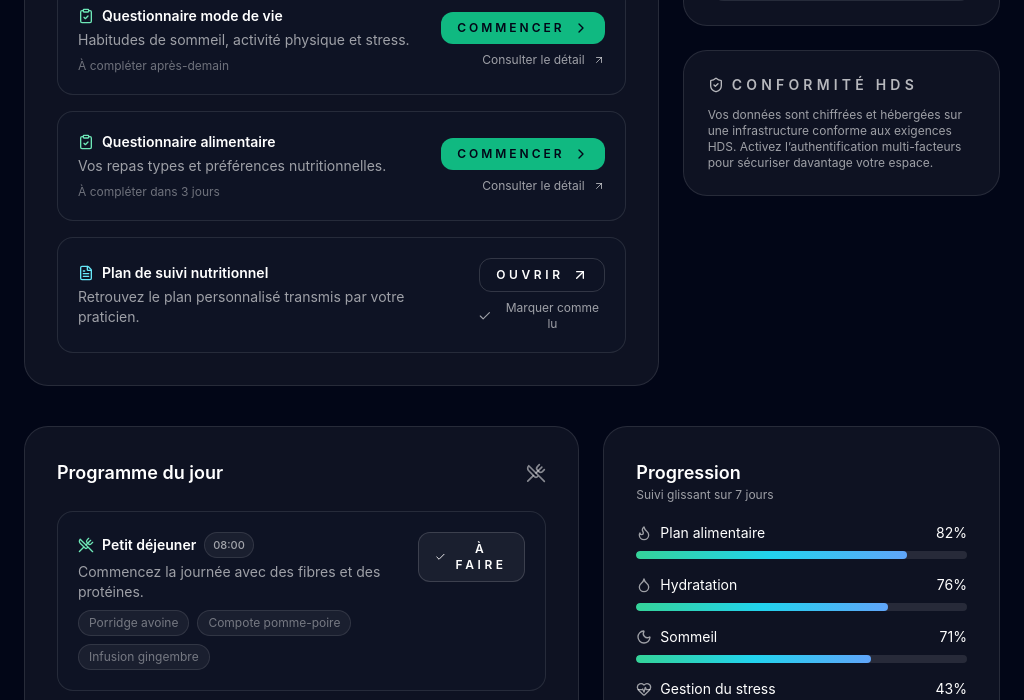
Test case: PatientHome › marque un document comme lu
(page scrolled)
What coordinates should you click on to do the following:
click the button with test id "todo-mark-todo-document-plan"
I would click on:
 (542, 316)
Its box is x1=478 y1=300 x2=605 y2=332.
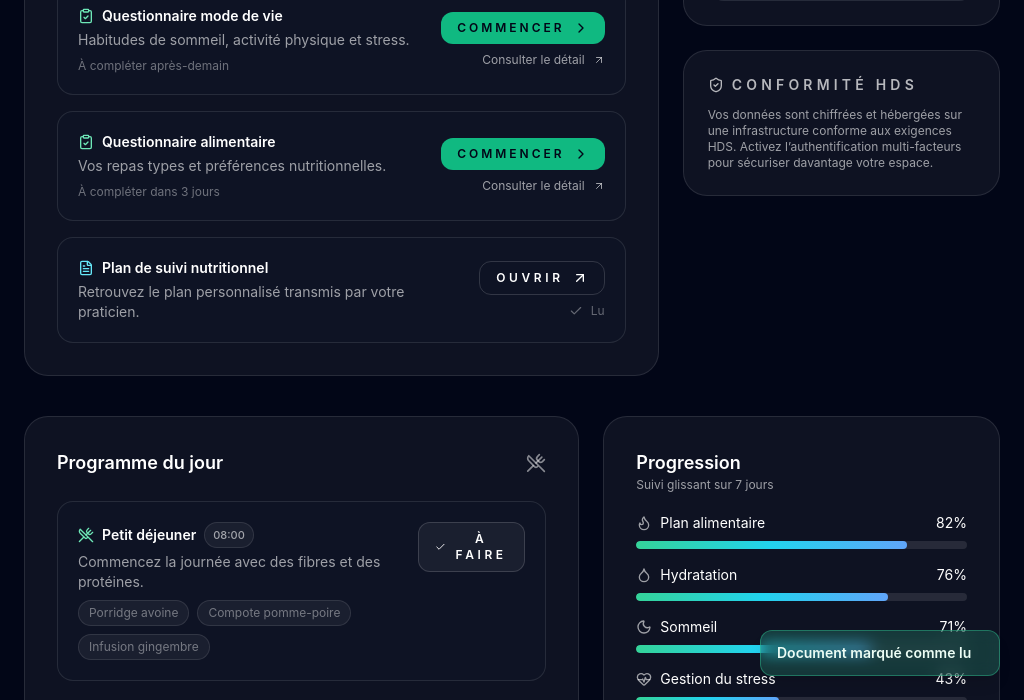
Expected: the button with test id "todo-mark-todo-document-plan" reads "Lu", x1=569 y1=303 x2=605 y2=319
Expected: the button with test id "todo-mark-todo-document-plan" is disabled, x1=569 y1=303 x2=605 y2=319
